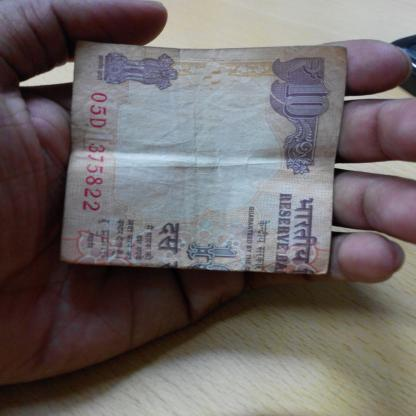Old10Front: (58, 40, 350, 278)
